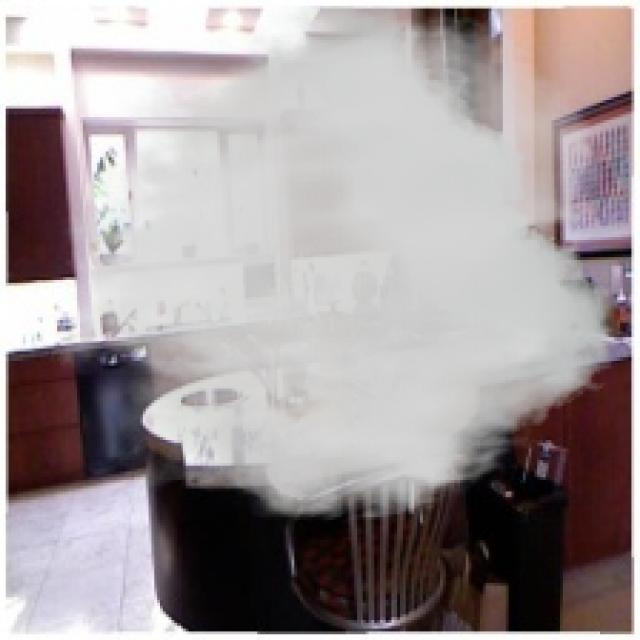smoke: (49, 6, 612, 526)
